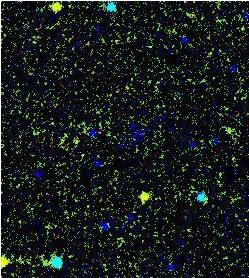star: (126, 182, 156, 212)
